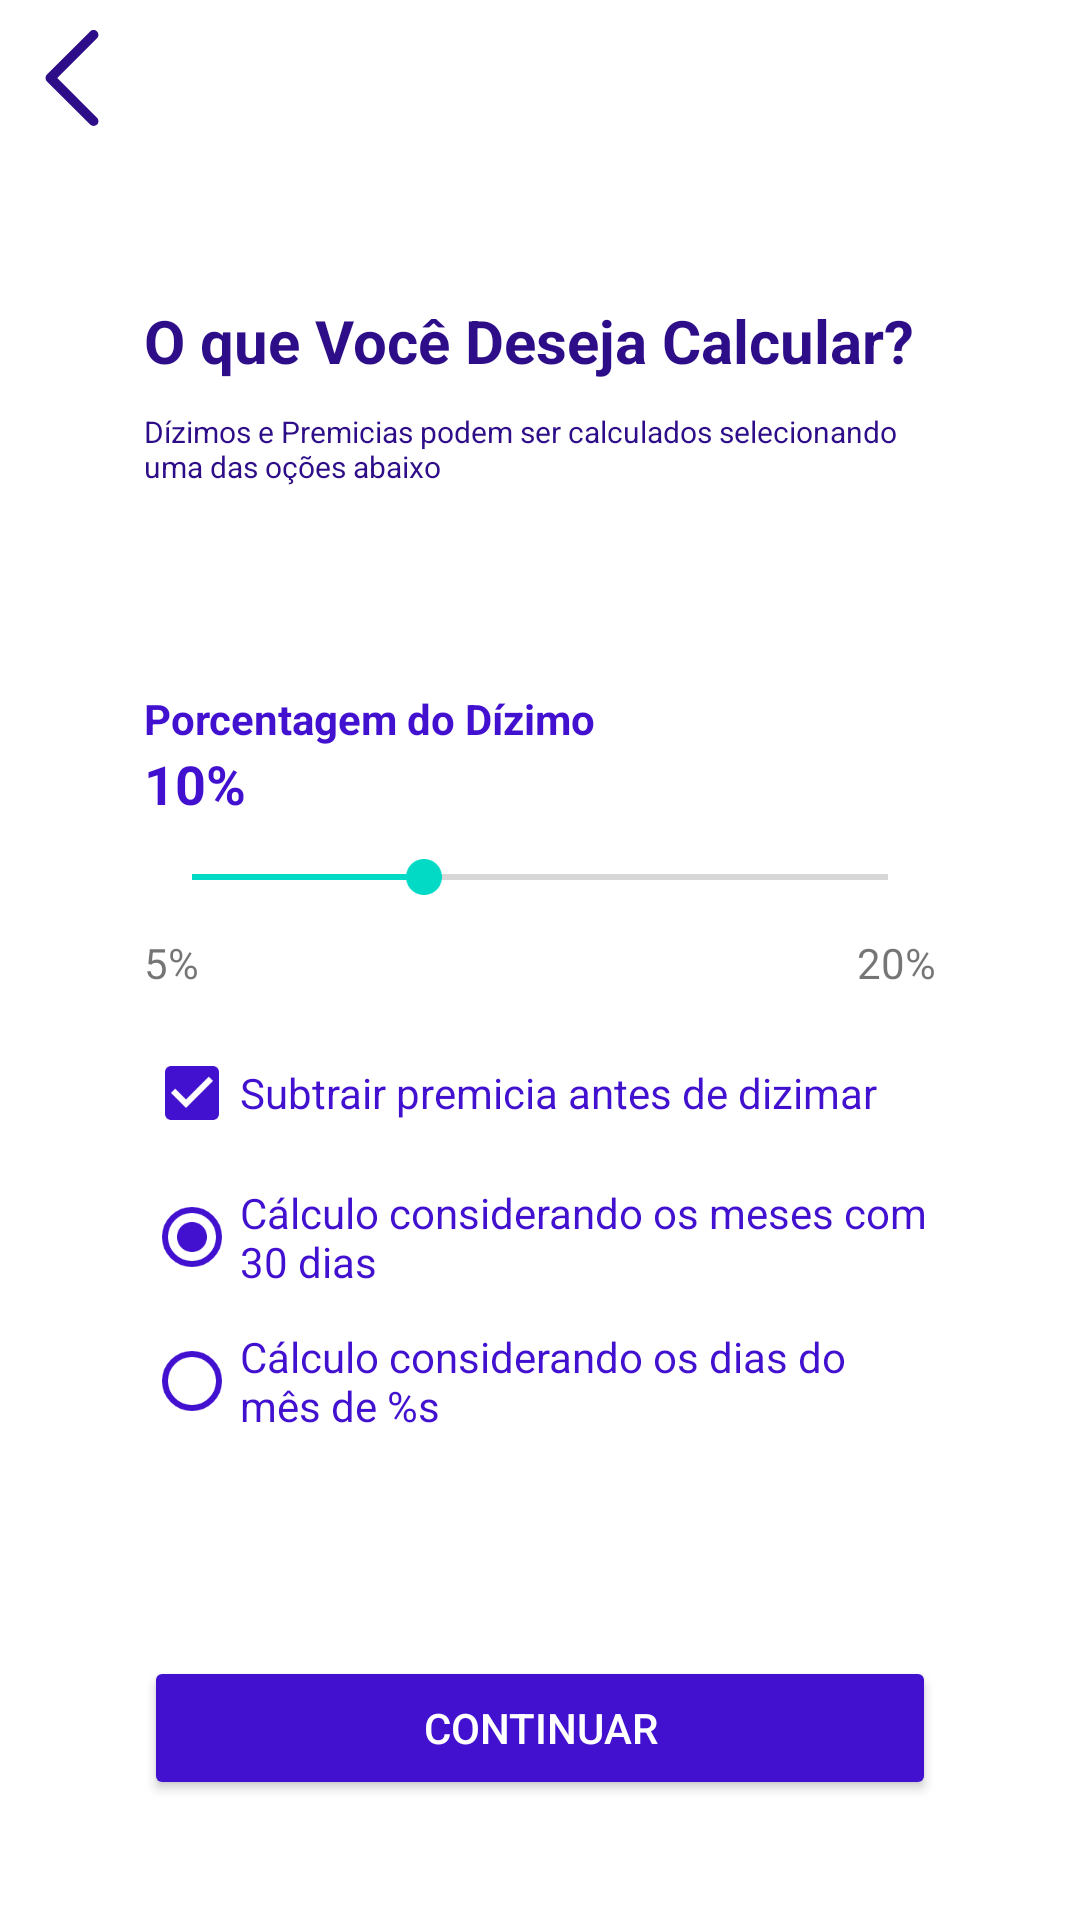

Icons on this 1080 x 1920 Android screen, each with the point to tap as (x,y):
back: (72,78)
